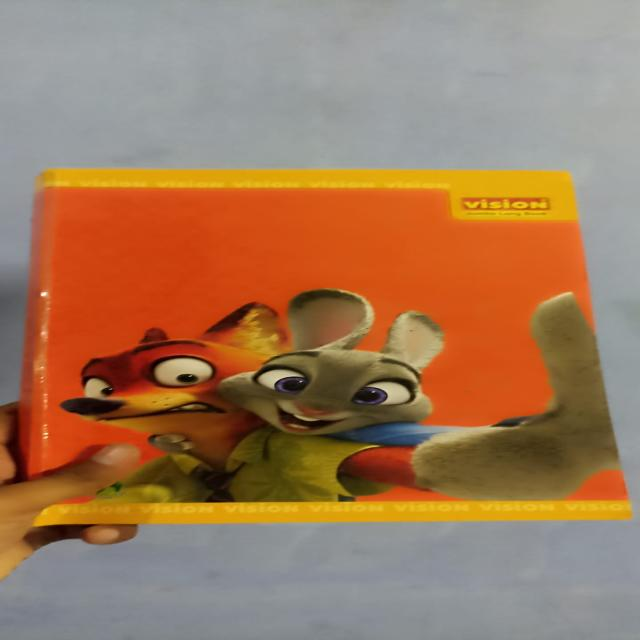book: (27, 154, 640, 527)
